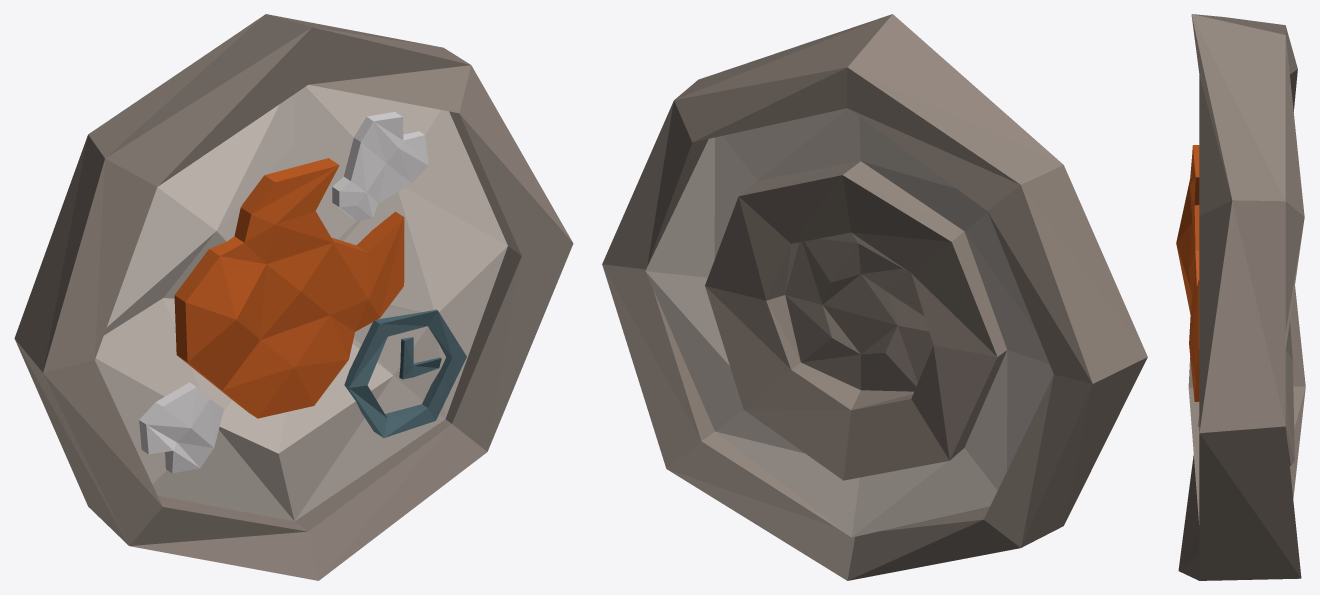
Rendered from item_fall_sp_time.FBX.
3 views of the same model, side by side, from view 1: azimuth 30°, elevation 25°; view 2: azimuth 150°, elevation 25°; view 3: azimuth 270°, elevation 25° (orthographic). The views are drawn at different scales.
Visible parts, largest first — view 1: coin; view 2: coin; view 3: coin.
Boxes of the visible parts, bbox=[...] form: coin: bbox=[14, 14, 573, 580]; coin: bbox=[602, 14, 1147, 580]; coin: bbox=[1176, 14, 1305, 580].
Bounding box in the file's own units: 31.09 × 30.75 × 6.49.
